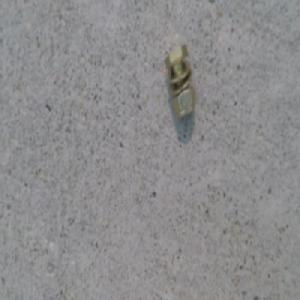BoltNutSet: (163, 43, 192, 119)
